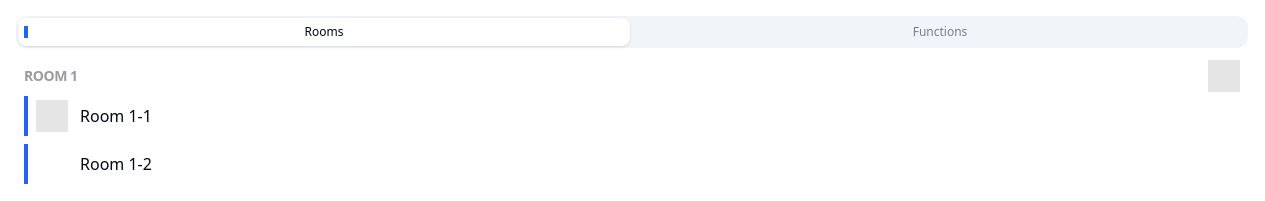
Test: MainAspectSidebar › switches to function aspect nodes when the toggle is switched
Click the text "Functions".
click(940, 32)  # box [913,23,967,40]
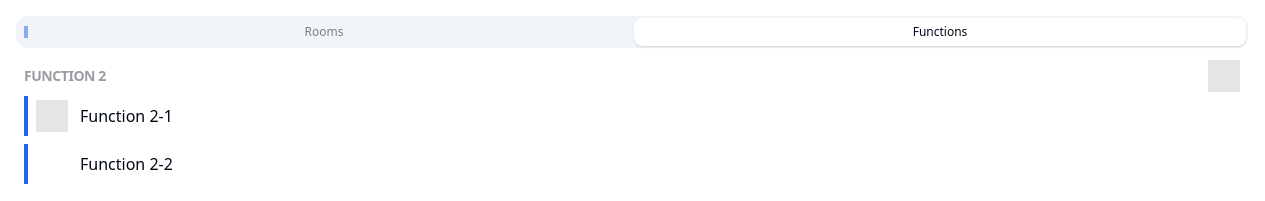
Now the text "Function 2" is shown, box [24,66,106,85]
Now the text "Function 2-1" is shown, box [80,105,173,127]
Now the text "Function 2-2" is shown, box [80,153,173,175]
